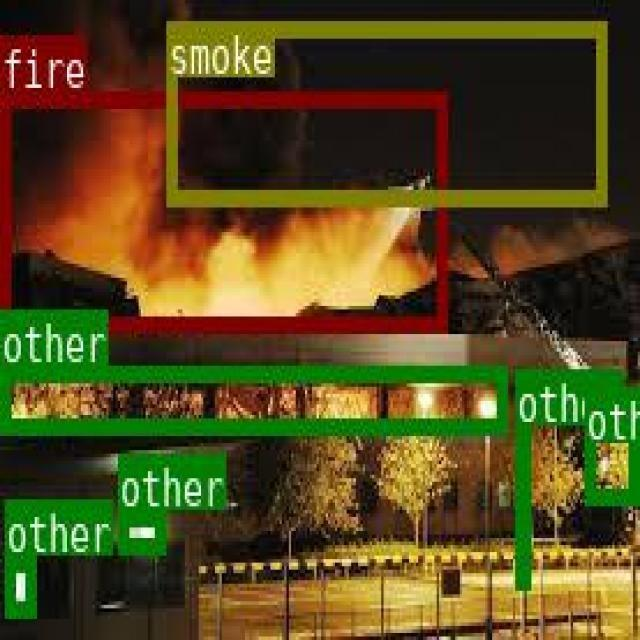fire: (0, 88, 444, 327)
smoke: (165, 20, 604, 201)
